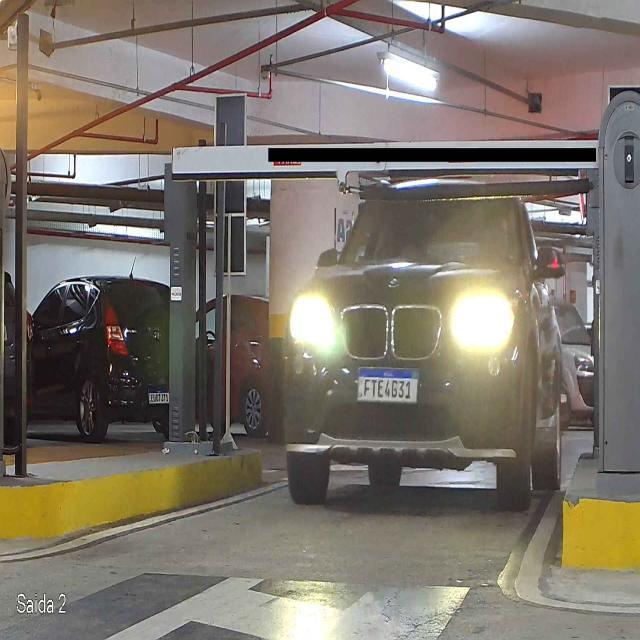mercosul_plate: (355, 365, 420, 405)
